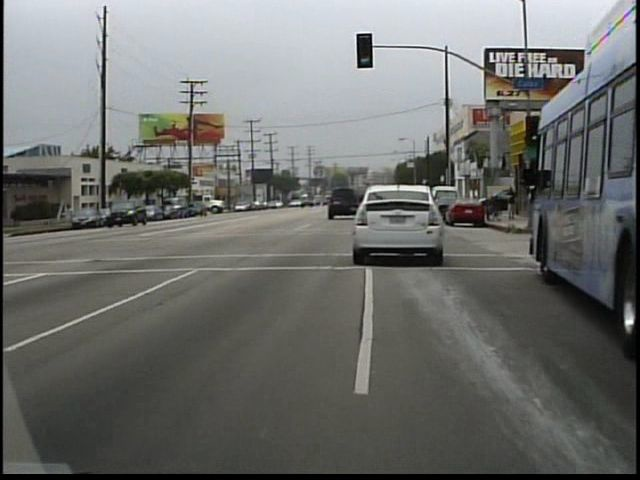person: (501, 181, 522, 228), (74, 204, 75, 228)
